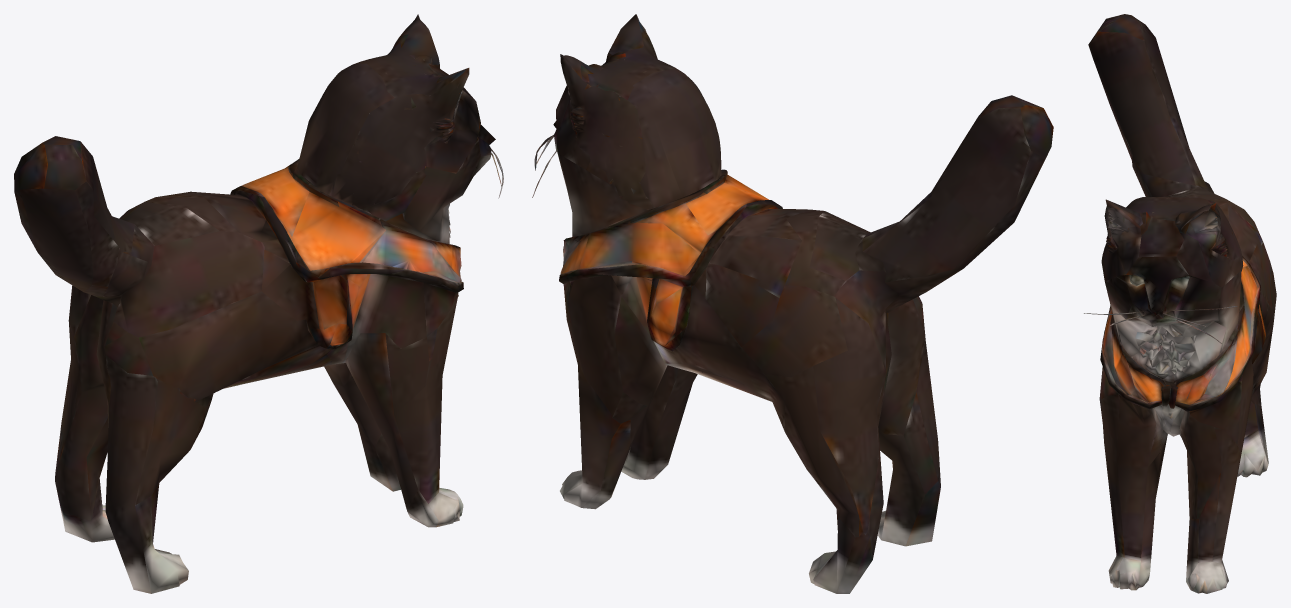
The model's file is FELIXHUD-lo.glb.
3 views of the same model, side by side, from view 1: azimuth 30°, elevation 25°; view 2: azimuth 150°, elevation 25°; view 3: azimuth 270°, elevation 25° (orthographic). The views are drawn at different scales.
Parts seen in each view (by area): view 1: material; view 2: material; view 3: material.
Part boxes in pixels (x1=…): material: x1=14, y1=14, x2=503, y2=593; material: x1=532, y1=14, x2=1053, y2=593; material: x1=1084, y1=14, x2=1276, y2=593.
Bounding box in the file's own units: 1.08 × 0.9903 × 0.4321.
1 material, 1 textured.
